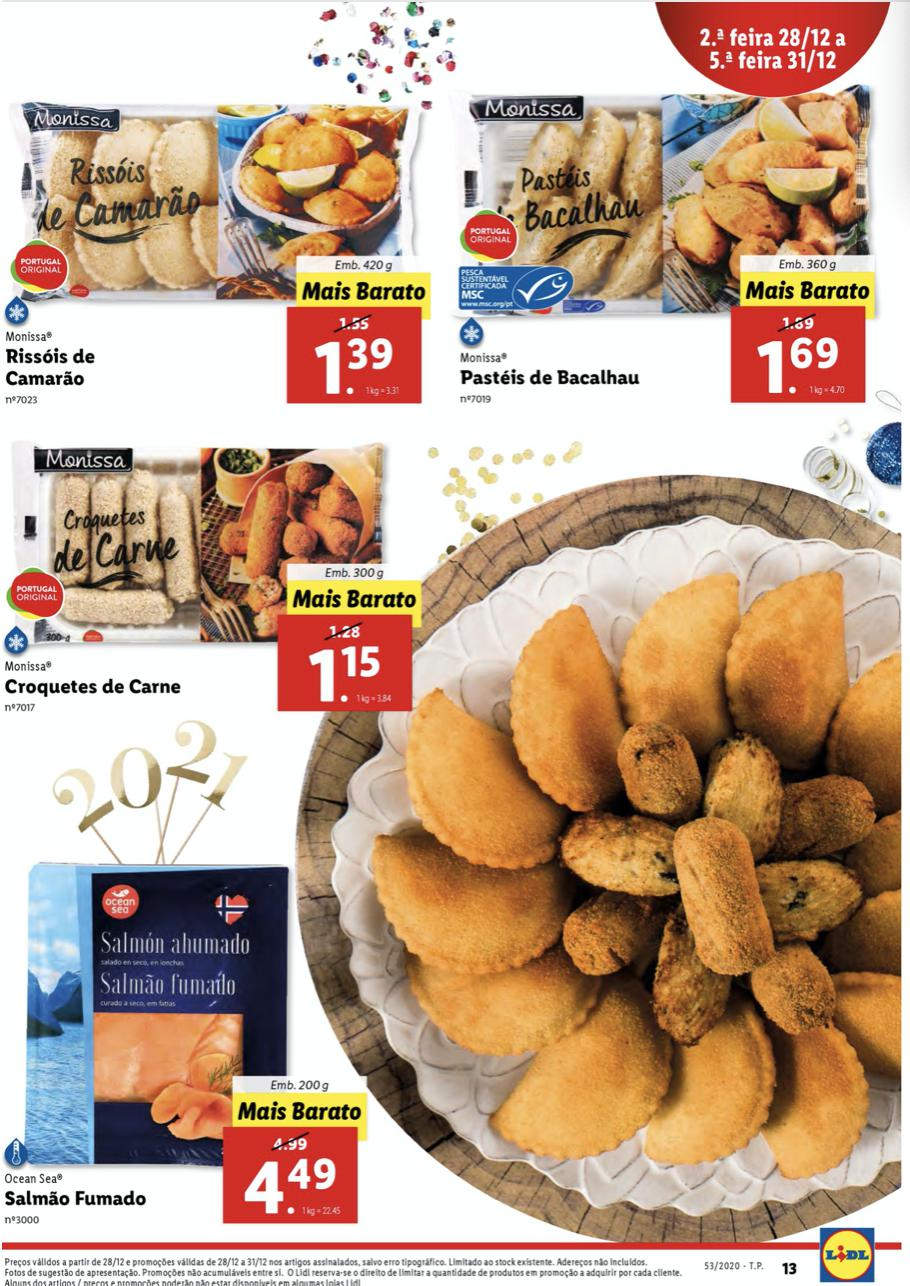name: (454, 364, 650, 394), (4, 675, 189, 704), (7, 344, 105, 393), (2, 1186, 151, 1212)
price: (745, 334, 858, 404), (305, 333, 410, 404), (245, 1153, 342, 1220), (305, 642, 389, 712)
product: (1, 94, 440, 417), (1, 866, 377, 1231), (451, 90, 873, 413), (4, 436, 426, 723)
